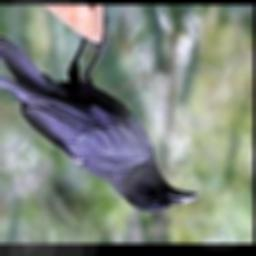Crow: (0, 15, 197, 213)
